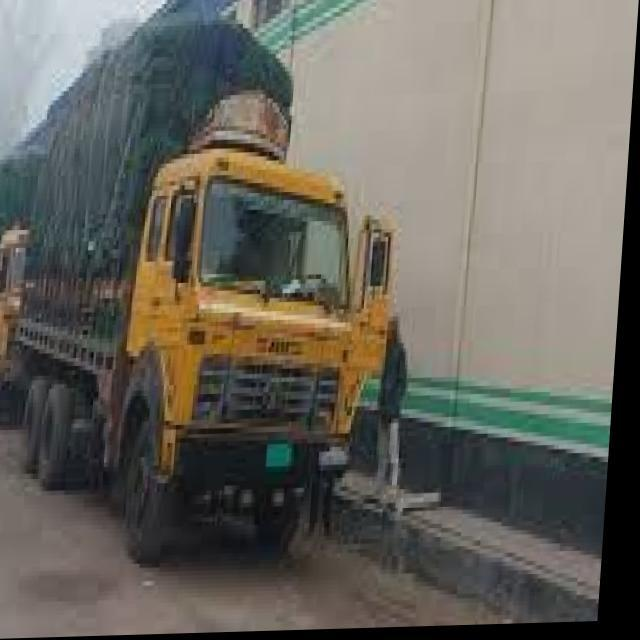covered: (22, 14, 385, 556), (0, 140, 60, 427)
